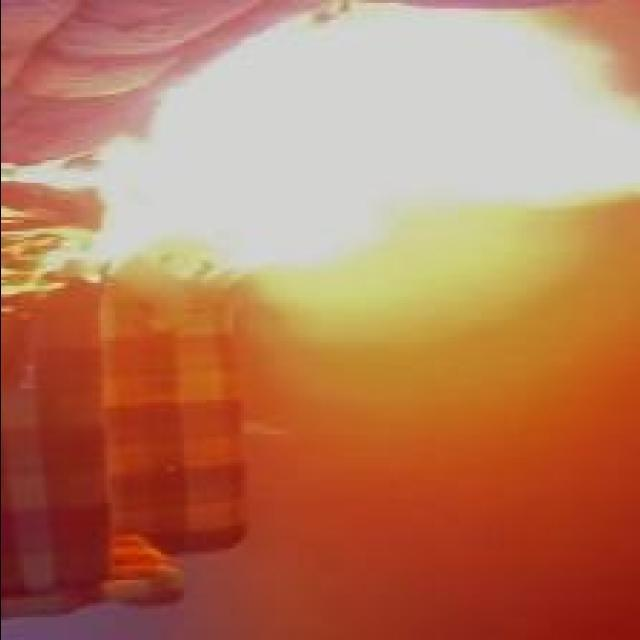Fire: (0, 7, 637, 304)
